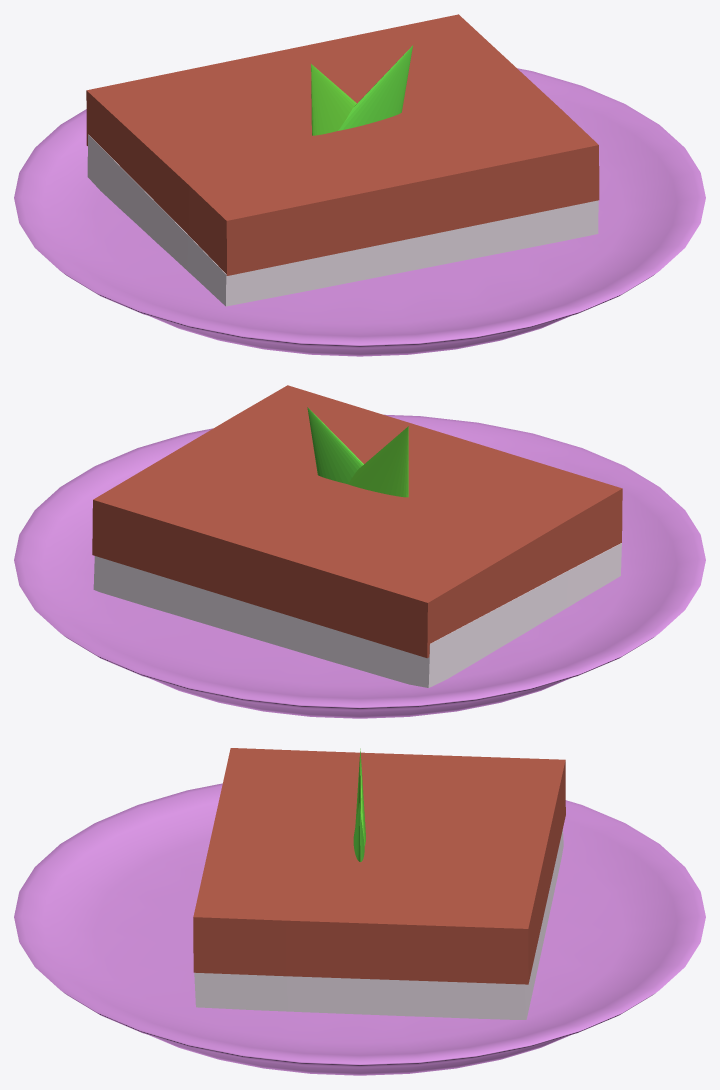
The model's file is lapis ketan sarikaya.fbx.
3 views of the same model, one above another, from view 1: azimuth 30°, elevation 25°; view 2: azimuth 150°, elevation 25°; view 3: azimuth 270°, elevation 25° (orthographic).
Parts seen in each view (by area): view 1: Cube.012, Cylinder, Cube.013, Cone.001, Cone; view 2: Cube.012, Cylinder, Cube.013, Cone, Cone.001; view 3: Cylinder, Cube.012, Cube.013.
Boxes of the visible parts, x1,y1,x2,y2 form: Cube.012: (86, 14, 599, 275); Cylinder: (14, 68, 705, 356); Cube.013: (87, 134, 598, 306); Cone.001: (338, 45, 412, 130); Cone: (311, 64, 356, 135); Cube.012: (92, 385, 622, 658); Cylinder: (14, 414, 705, 718); Cube.013: (93, 543, 621, 687); Cone: (348, 426, 408, 497); Cone.001: (307, 407, 363, 484); Cylinder: (14, 783, 705, 1075); Cube.012: (193, 748, 565, 984); Cube.013: (194, 829, 563, 1019).
Size of the model in its own units: 350 by 105 by 350.
